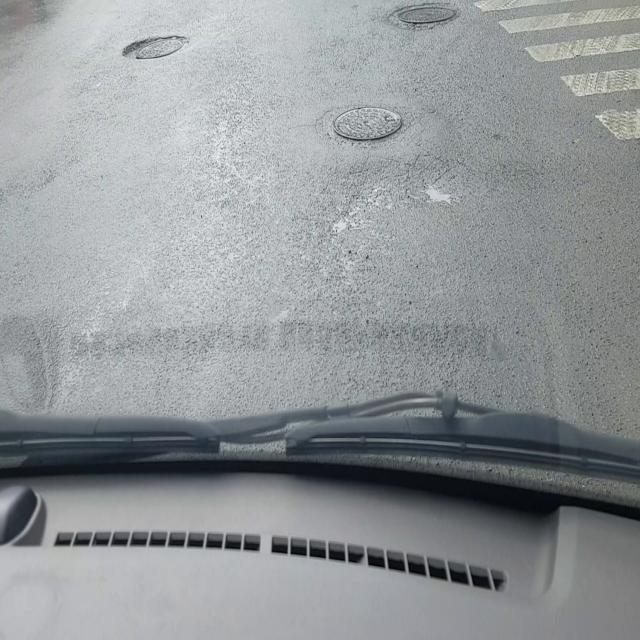Pothole: (120, 33, 191, 62)
